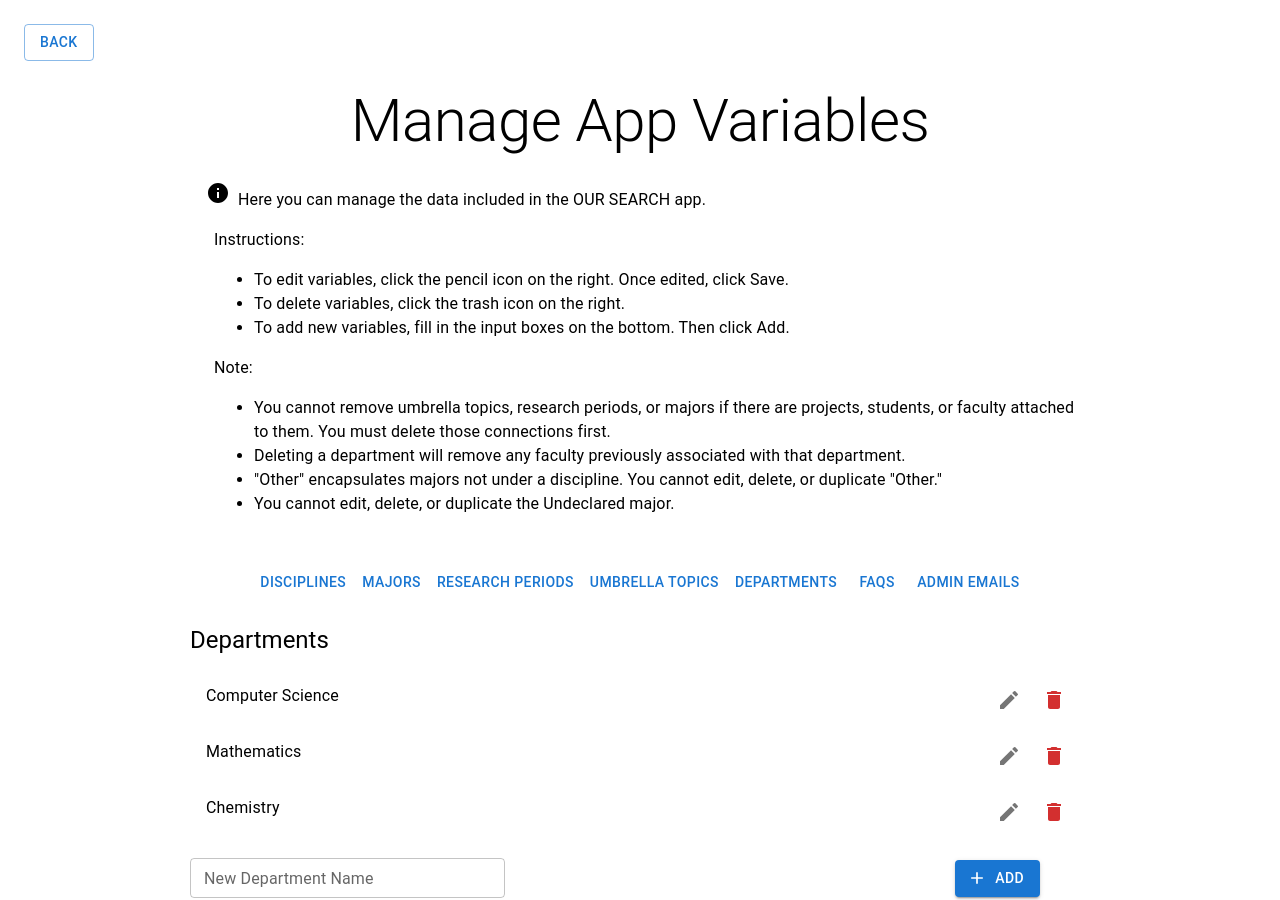
Test: ManageVariables › handling departments › deleting › asks for confirmation before deleting
Click the 1st button with test id "delete-department-btn". click: (1054, 700)
box: 1034,680 -> 1074,720
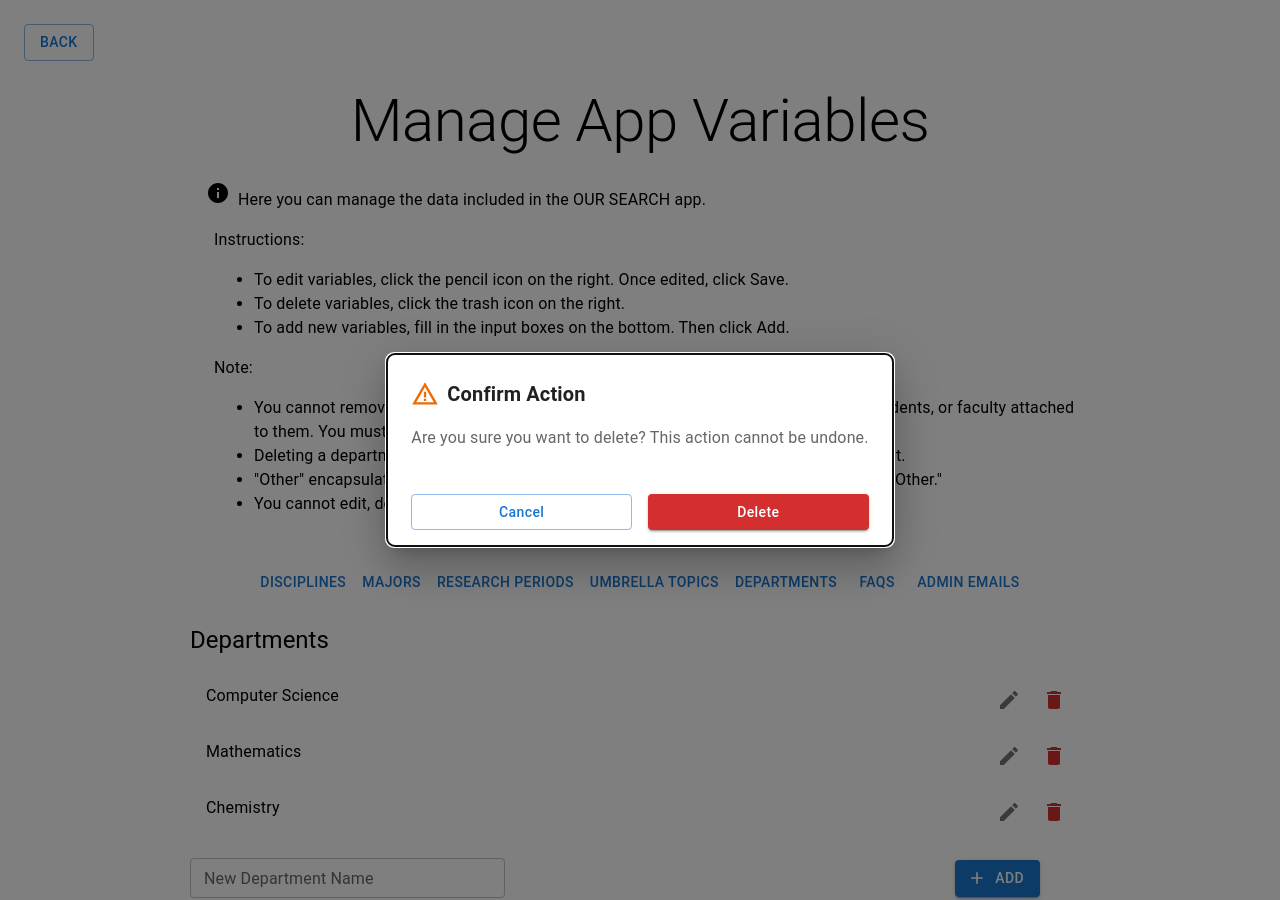
Check: the text "Are you sure you want to delete" is shown, box 411,426 -> 869,450
Check: the button with test id "confirm" is shown, box 648,494 -> 869,530
